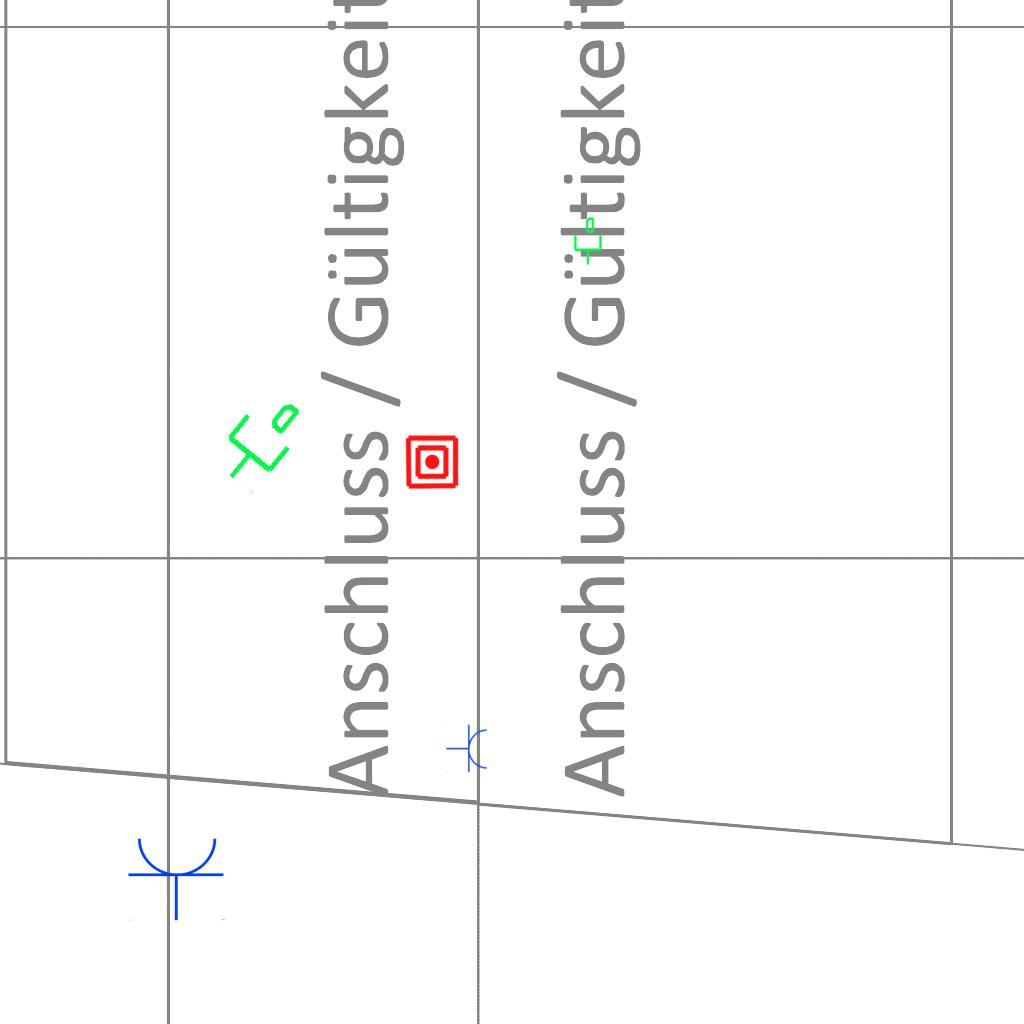Datenanschluss_einfach: (201, 378, 318, 500), (570, 216, 604, 266)
NAM-Nichtautomatischer_Melder: (404, 434, 460, 490)
Schukosteckdose_einfach: (127, 834, 227, 921), (446, 724, 489, 774)
